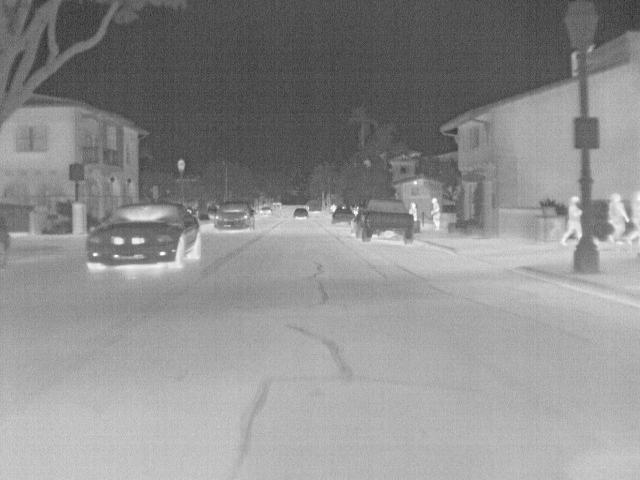car: (84, 200, 202, 274), (352, 196, 414, 246), (216, 200, 254, 230), (0, 218, 19, 269), (331, 206, 354, 225), (291, 207, 309, 221), (259, 206, 273, 218)
person: (560, 195, 582, 246), (606, 191, 626, 243), (630, 191, 639, 243), (429, 196, 442, 232), (409, 200, 418, 220)
